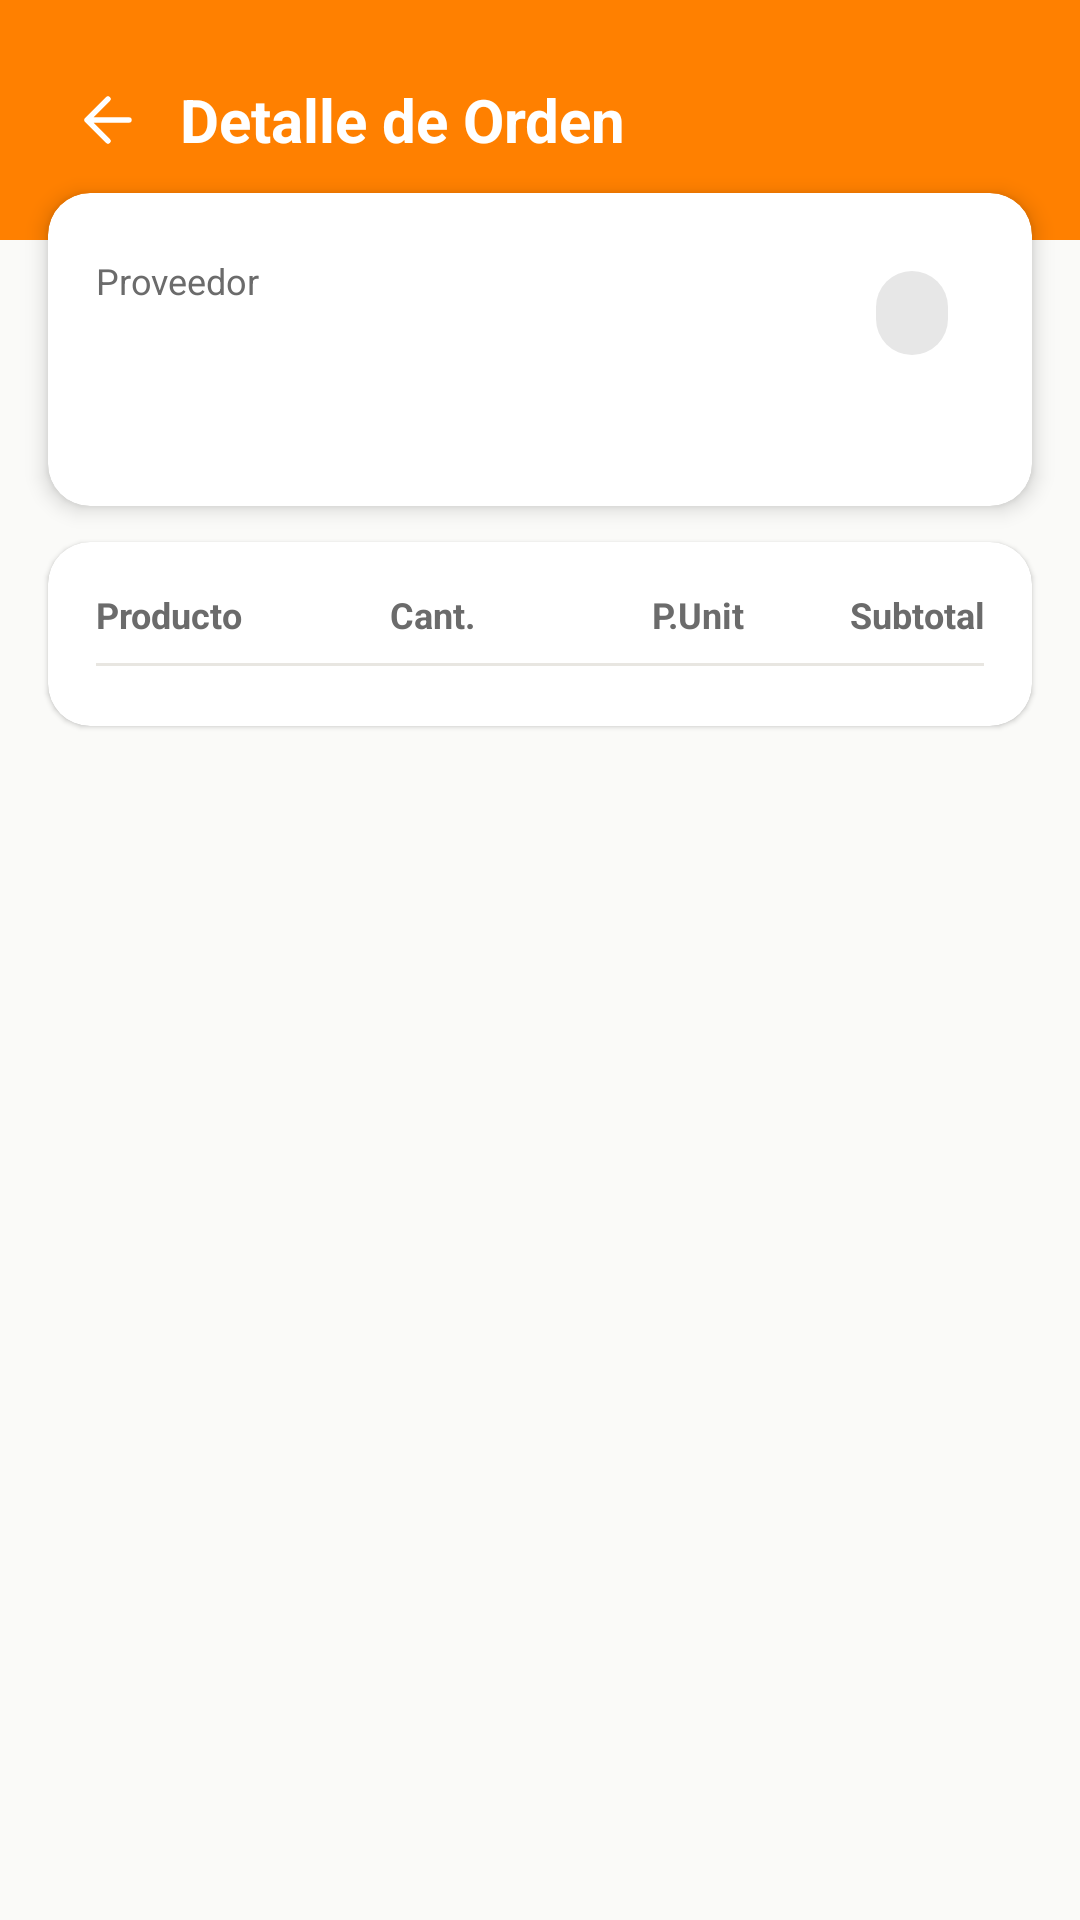

Where to tap for icons on this 1080px×1920px app screen, as (x=x, y=y):
Volver: (x=108, y=120)
